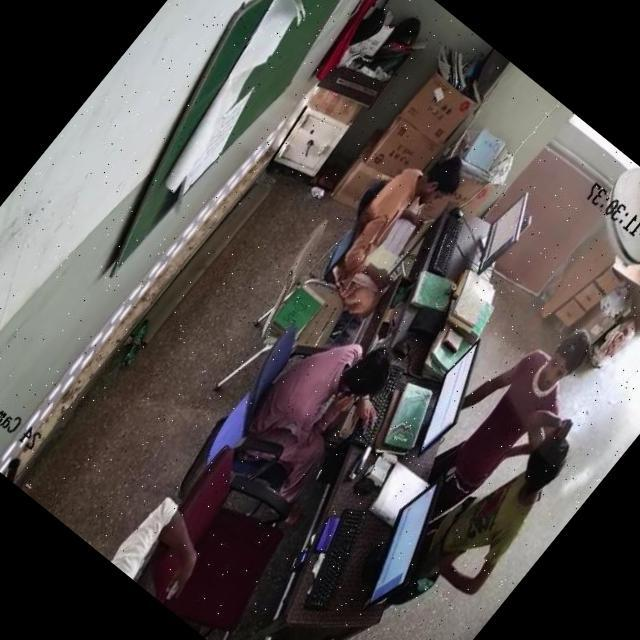person: (316, 128, 470, 300), (428, 412, 580, 583), (236, 318, 388, 482), (452, 326, 596, 486)
